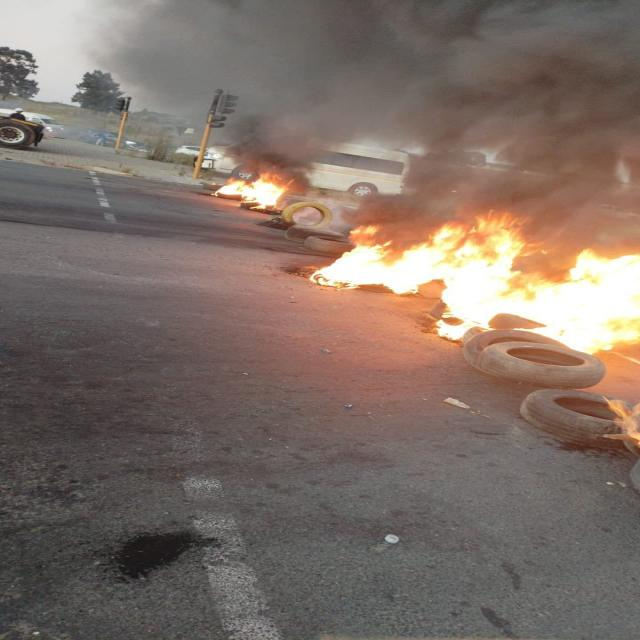fire: (436, 248, 640, 355), (392, 213, 525, 305), (309, 244, 391, 289), (212, 180, 288, 211), (601, 396, 640, 448)
